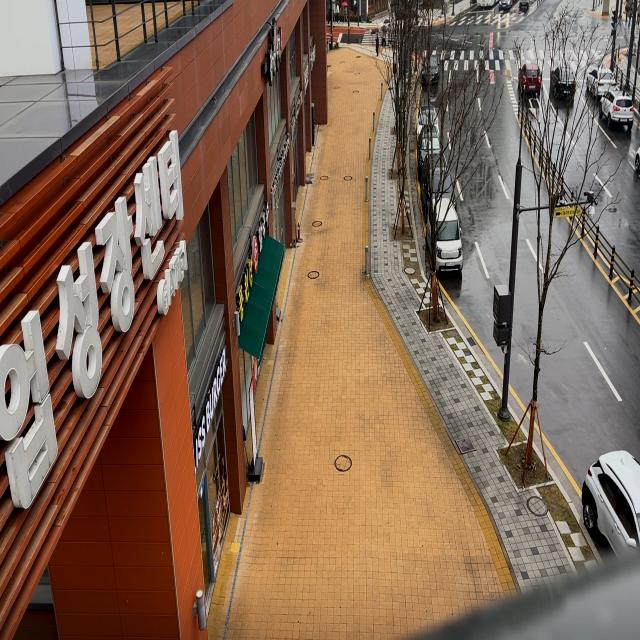Car: (563, 426, 640, 576), (421, 187, 472, 288), (421, 151, 465, 213), (599, 71, 636, 131), (417, 120, 454, 164), (414, 97, 451, 137), (586, 60, 616, 100), (552, 56, 576, 102), (519, 62, 546, 102), (419, 52, 447, 86)
